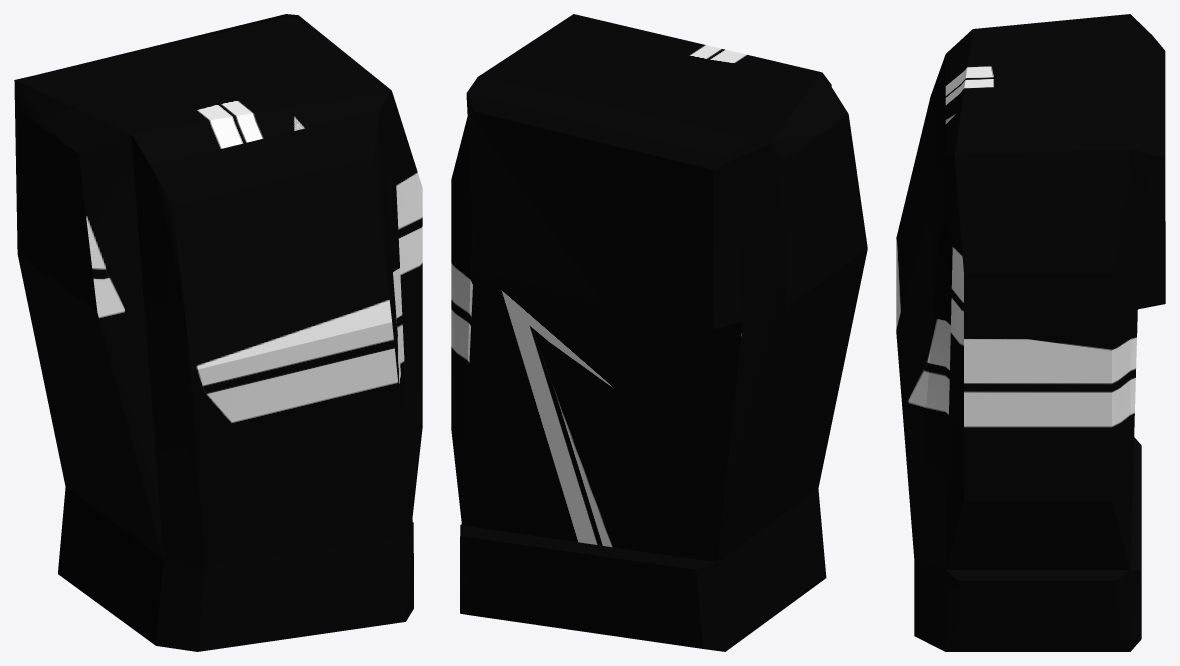
Rendered from rightthigh.obj.
The picture shows the model from 3 angles, left to right: view 1: azimuth 30°, elevation 25°; view 2: azimuth 150°, elevation 25°; view 3: azimuth 270°, elevation 25°; orthographic projection. The views are drawn at different scales.
Visible parts, largest first — view 1: pCube6 pCube7; view 2: pCube6 pCube7; view 3: pCube6 pCube7.
Boxes of the visible parts, box(x1,y1,x2,y2) form: pCube6 pCube7: box(14, 14, 422, 651); pCube6 pCube7: box(451, 14, 867, 651); pCube6 pCube7: box(896, 14, 1165, 651).
Size of the model in its own units: 0.743 by 1.16 by 0.5653.
Materials: 1 (1 with a texture image).
